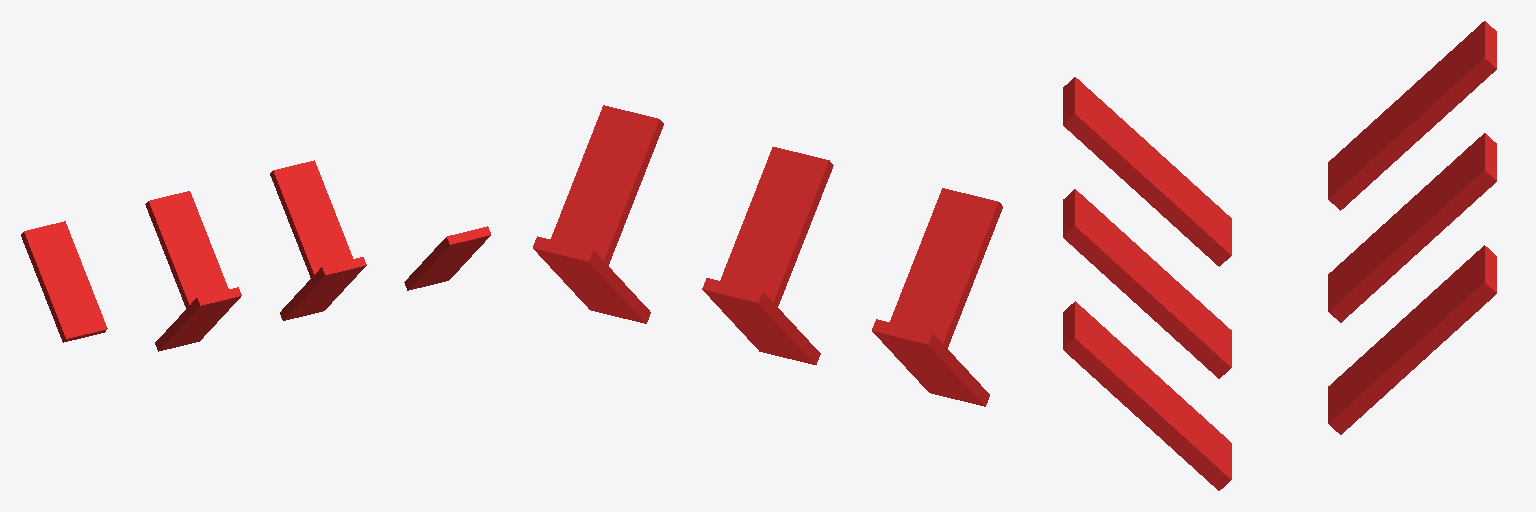
robot.urdf — AngledSteps:
<?xml version="1.0" ?>

<!--Reference: http://www.ninjafit.net/quad-steps-godantobi-american-ninja-warrior-obstacles/ -->
<robot name="AngledSteps">
  <material name="Blue">
    <color rgba="0.2 0.2 0.9 1.0"/>
  </material>
  <material name="Green">
    <color rgba="0.2 0.9 0.2 1.0"/>
  </material>
  <material name="Red">
    <color rgba="0.9 0.2 0.2 1.0"/>
  </material>




  <link name="Course">
    <inertial>
      <mass value="0"/>
      <inertia ixx="0" ixy="0" ixz="0" iyy="0" iyz="0" izz="0"/>
      <origin xyz="0 0 0"/>
    </inertial>
    <!-- Visual Steps -->
    <visual>
      <origin xyz="1 1.5 1" rpy="-0.785398163 0 0"/>
      <geometry>
        <box size="1 0.2 2.5"/>
      </geometry>
      <material name="Red"/>  
    </visual>

    <visual>
      <origin xyz="2.5 -1.5 1" rpy="0.785398163 0 0"/>
      <geometry>
        <box size="1 0.2 2.5"/>
      </geometry>
      <material name="Red"/>  
    </visual>

    <visual>
      <origin xyz="4 1.5 1" rpy="-0.785398163 0 0"/>
      <geometry>
        <box size="1 0.2 2.5"/>
      </geometry>
      <material name="Red"/>  
    </visual>

    <visual>
      <origin xyz="5.5 -1.5 1" rpy="0.785398163 0 0"/>
      <geometry>
        <box size="1 0.2 2.5"/>
      </geometry>
      <material name="Red"/>  
    </visual>

    <visual>
      <origin xyz="7 1.5 1" rpy="-0.785398163 0 0"/>
      <geometry>
        <box size="1 0.2 2.5"/>
      </geometry>
      <material name="Red"/>  
    </visual>

    <visual>
      <origin xyz="8.5 -1.5 1" rpy="0.785398163 0 0"/>
      <geometry>
        <box size="1 0.2 2.5"/>
      </geometry>
      <material name="Red"/>  
    </visual>

    <!-- Collision Steps -->
    <collision group="first_step">
      <origin xyz="1 1.5 1" rpy="-0.785398163 0 0"/>
      <geometry>
        <box size="1 0.2 2.5"/>
      </geometry>
    </collision>

    <collision>
      <origin xyz="2.5 -1.5 1" rpy="0.785398163 0 0"/>
      <geometry>
        <box size="1 0.2 2.5"/>
      </geometry>
    </collision>

    <collision>
      <origin xyz="4 1.5 1" rpy="-0.785398163 0 0"/>
      <geometry>
        <box size="1 0.2 2.5"/>
      </geometry>
    </collision>

    <collision>
      <origin xyz="5.5 -1.5 1" rpy="0.785398163 0 0"/>
      <geometry>
        <box size="1 0.2 2.5"/>
      </geometry>
    </collision>

    <collision>
      <origin xyz="7 1.5 1" rpy="-0.785398163 0 0"/>
      <geometry>
        <box size="1 0.2 2.5"/>
      </geometry>
    </collision>

    <collision>
      <origin xyz="8.5 -1.5 1" rpy="0.785398163 0 0"/>
      <geometry>
        <box size="1 0.2 2.5"/>
      </geometry>
    </collision>

  </link>

  <!--<link name="StepGhost">-->
    <!--<inertial>-->
      <!--<mass value="100"/>-->
      <!--<inertia ixx="0.000269283" ixy="-4.52571e-07" ixz="3.23662e-06" iyy="0.00037679" iyz="-9.93935e-07" izz="0.000360355"/>-->
      <!--<origin xyz="-0.036208 8.31243e-05 -0.00126685"/>-->
    <!--</inertial>-->
    <!--<visual>-->
      <!--<origin xyz="0 0 0" rpy="0 0 0"/>-->
      <!--<geometry>-->
        <!-- Step 1-->
        <!--<box size="0.5 1 1.89"/>-->
      <!--</geometry>-->
      <!--<material name="Green"/>  -->
    <!--</visual>-->
    <!--<collision group="start">-->
      <!--<origin xyz="0 0 0" rpy="0 0 0"/>-->
      <!--<geometry>-->
        <!-- Step 1-->
        <!--<box size="0.5 1 1.89"/>-->
      <!--</geometry>-->
      <!--<material name="Green"/>  -->
    <!--</collision>-->
    
  <!--</link>-->






  <!--<joint name="FalseJoint" type="fixed">-->
      <!--<origin rpy="0 -0 0" xyz="0.0137246 0.0 1.1092625"/>-->
      <!--<parent link="Course"/>-->
      <!--<child link="StepGhost"/>-->
      <!--<axis xyz="0 0 1"/>-->
      <!--<limit effort="10.0" lower="-1.5" upper="1.5" velocity="1.0"/>-->
  <!--</joint>-->
</robot>

--- Render facts (derived) ---
Views: 3 orthographic renders of the robot side by side, from view 1: azimuth 30°, elevation 25°; view 2: azimuth 150°, elevation 25°; view 3: azimuth 270°, elevation 25°.
Robot: AngledSteps — 1 links, 0 joints (none); root link Course; default pose: all joints at 0.
Visible links, largest first — view 1: Course; view 2: Course; view 3: Course.
Link boxes in pixels (x1=…): Course: x1=21, y1=160, x2=490, y2=351; Course: x1=533, y1=105, x2=1002, y2=406; Course: x1=1063, y1=21, x2=1496, y2=490.
Size in the robot's own frame: 8.5 by 4.91 by 1.91 metres.
Geometry: primitives only (box / cylinder / sphere), no mesh files.
